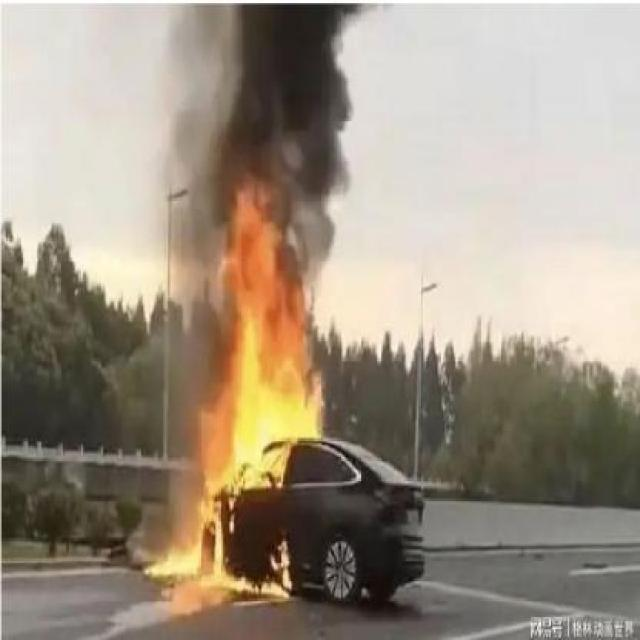Fire: (212, 193, 321, 489), (149, 492, 277, 598), (272, 536, 292, 596)
Smoke: (206, 2, 351, 264)
